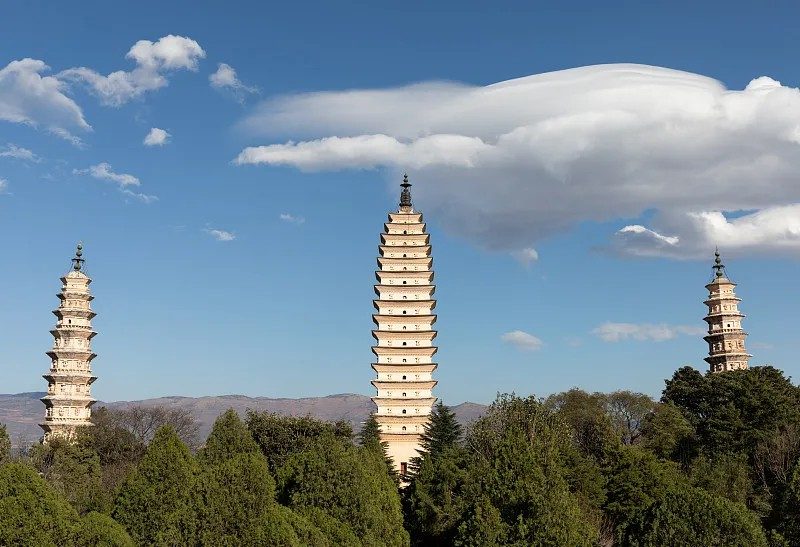ThreePagoda: (372, 173, 437, 488)
